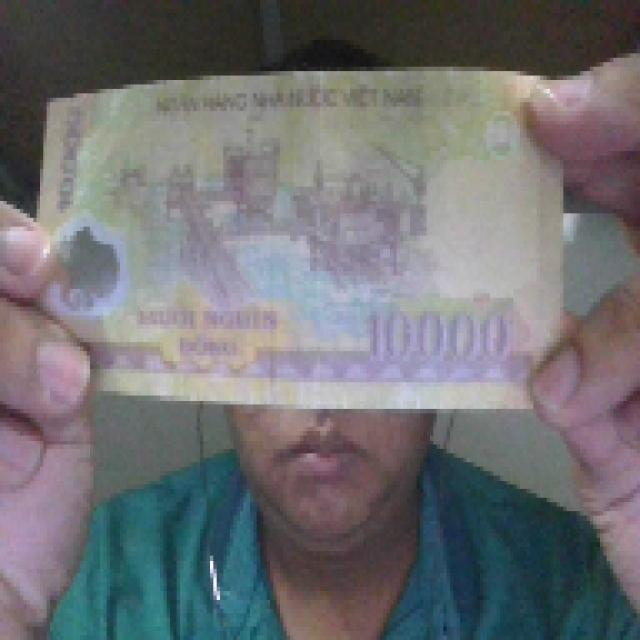10 000 VND: (27, 58, 570, 413)
